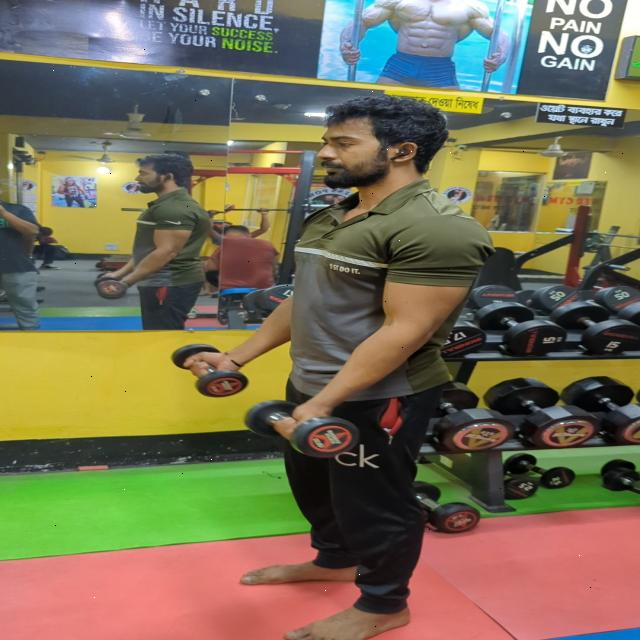Normal_DumbbellBicepCurls: (188, 110, 510, 640)
